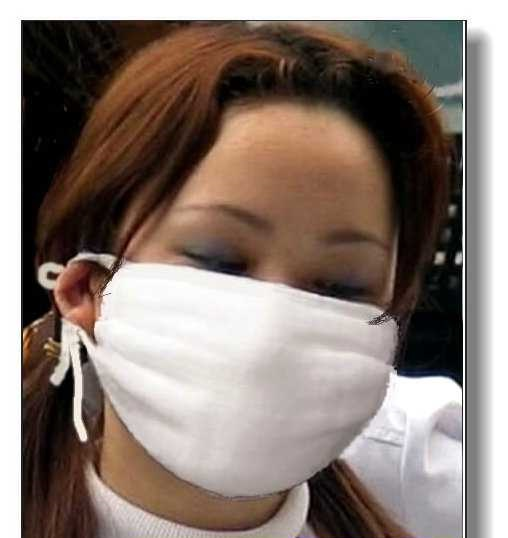face_mask: (104, 100, 400, 488)
